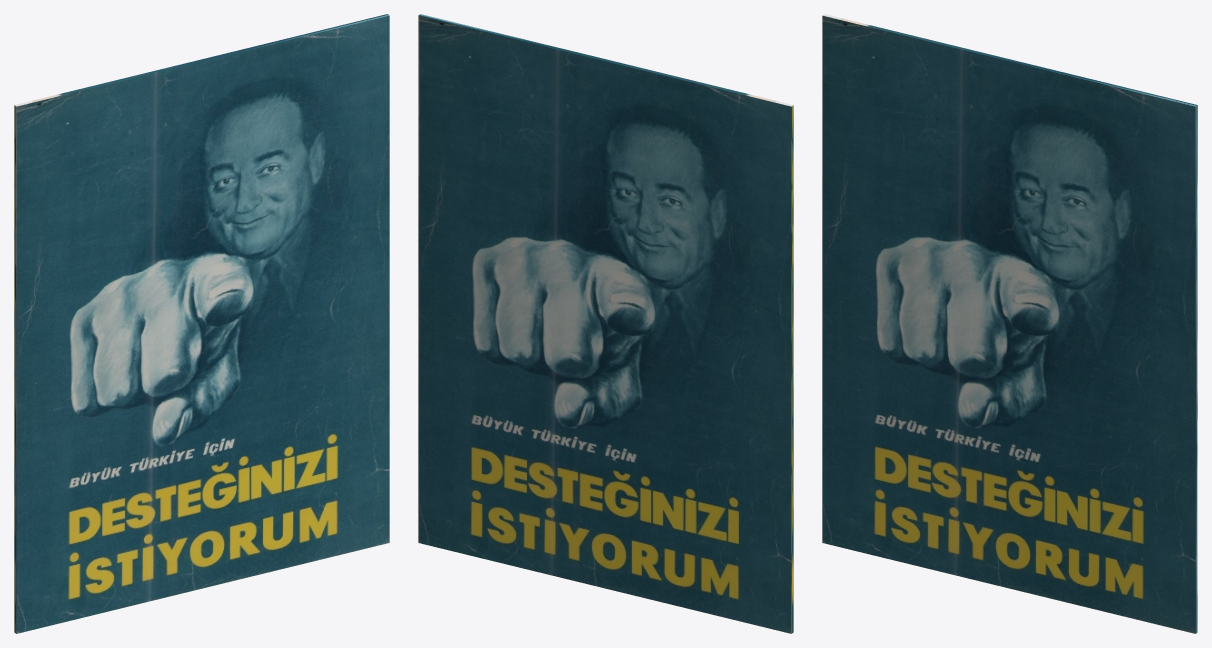
The model's file is Afish4.fbx.
3 renders of one model, left to right at view 1: azimuth 30°, elevation 25°; view 2: azimuth 150°, elevation 25°; view 3: azimuth 330°, elevation 25°, orthographic.
Parts seen in each view (by area): view 1: Cube.001; view 2: Cube.001; view 3: Cube.001.
Part boxes in pixels (bbox=[...]): Cube.001: bbox=[14, 14, 389, 633]; Cube.001: bbox=[418, 14, 793, 633]; Cube.001: bbox=[822, 14, 1197, 633].
Bounding box in the file's own units: 148 × 200 × 1.48.
1 material, 1 textured.
